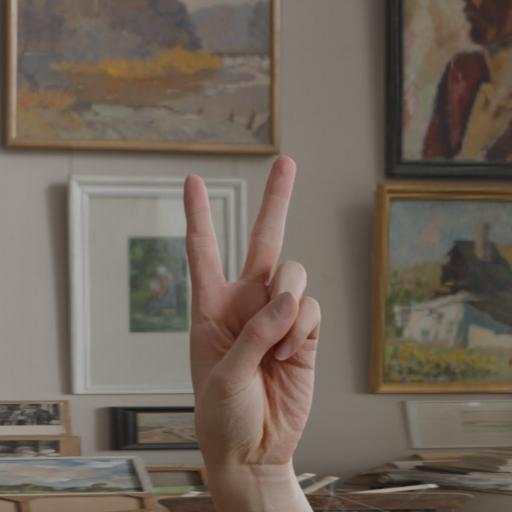V: (171, 154, 325, 471)
